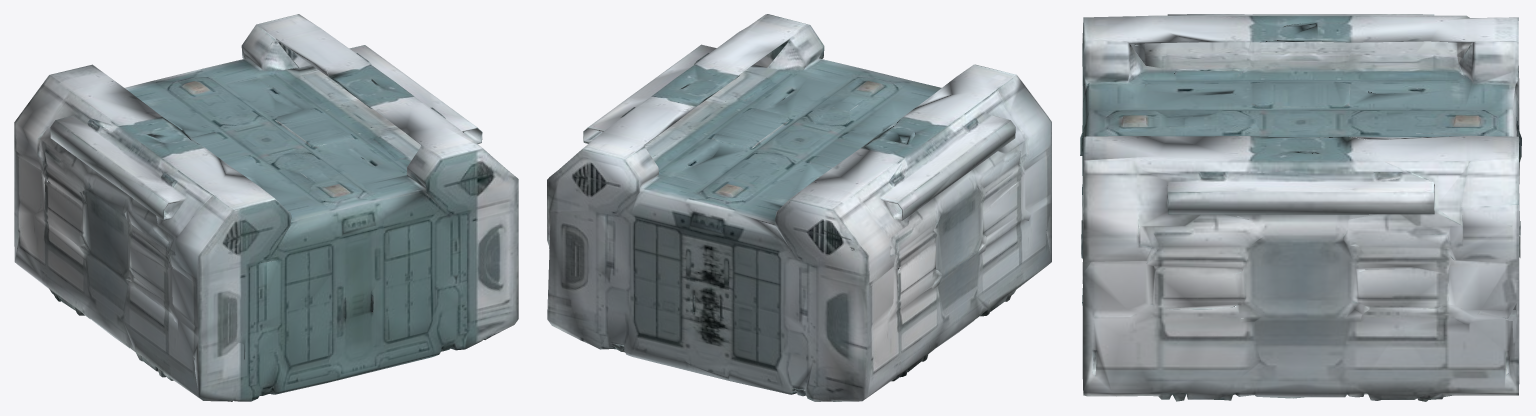
Rendered from corvette_marine_barracks.repacked.glb.
The picture shows the model from 3 angles, left to right: view 1: azimuth 30°, elevation 25°; view 2: azimuth 150°, elevation 25°; view 3: azimuth 270°, elevation 25°; orthographic projection. The views are drawn at different scales.
Visible parts, largest first — view 1: Mesh1.0; view 2: Mesh1.0; view 3: Mesh1.0.
Part boxes in pixels (x1=…): Mesh1.0: x1=14, y1=14, x2=518, y2=401; Mesh1.0: x1=547, y1=14, x2=1051, y2=401; Mesh1.0: x1=1080, y1=14, x2=1521, y2=401.
Size of the model in its own units: 1.91 by 1.13 by 1.93.
1 material, 1 textured.
